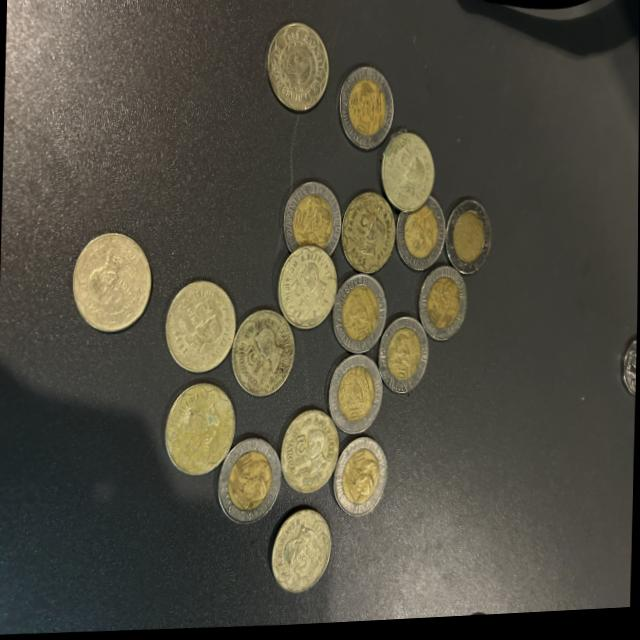10_Old_Front: (216, 439, 281, 528), (331, 275, 386, 358), (282, 182, 340, 255)
5_Old_Front: (279, 410, 340, 499), (340, 196, 395, 281)
